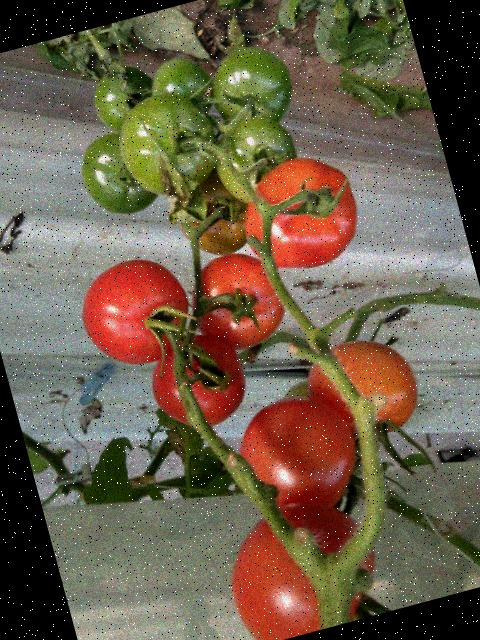l_fully_ripened: (214, 486, 391, 640), (226, 383, 369, 527), (230, 147, 370, 283), (71, 249, 201, 377), (180, 243, 295, 360), (140, 324, 255, 440)
l_green: (108, 83, 229, 208), (205, 109, 306, 210), (200, 38, 301, 138), (72, 125, 162, 224), (86, 59, 164, 136), (143, 50, 219, 127)
l_half_ripened: (298, 327, 428, 452), (167, 162, 261, 265)
